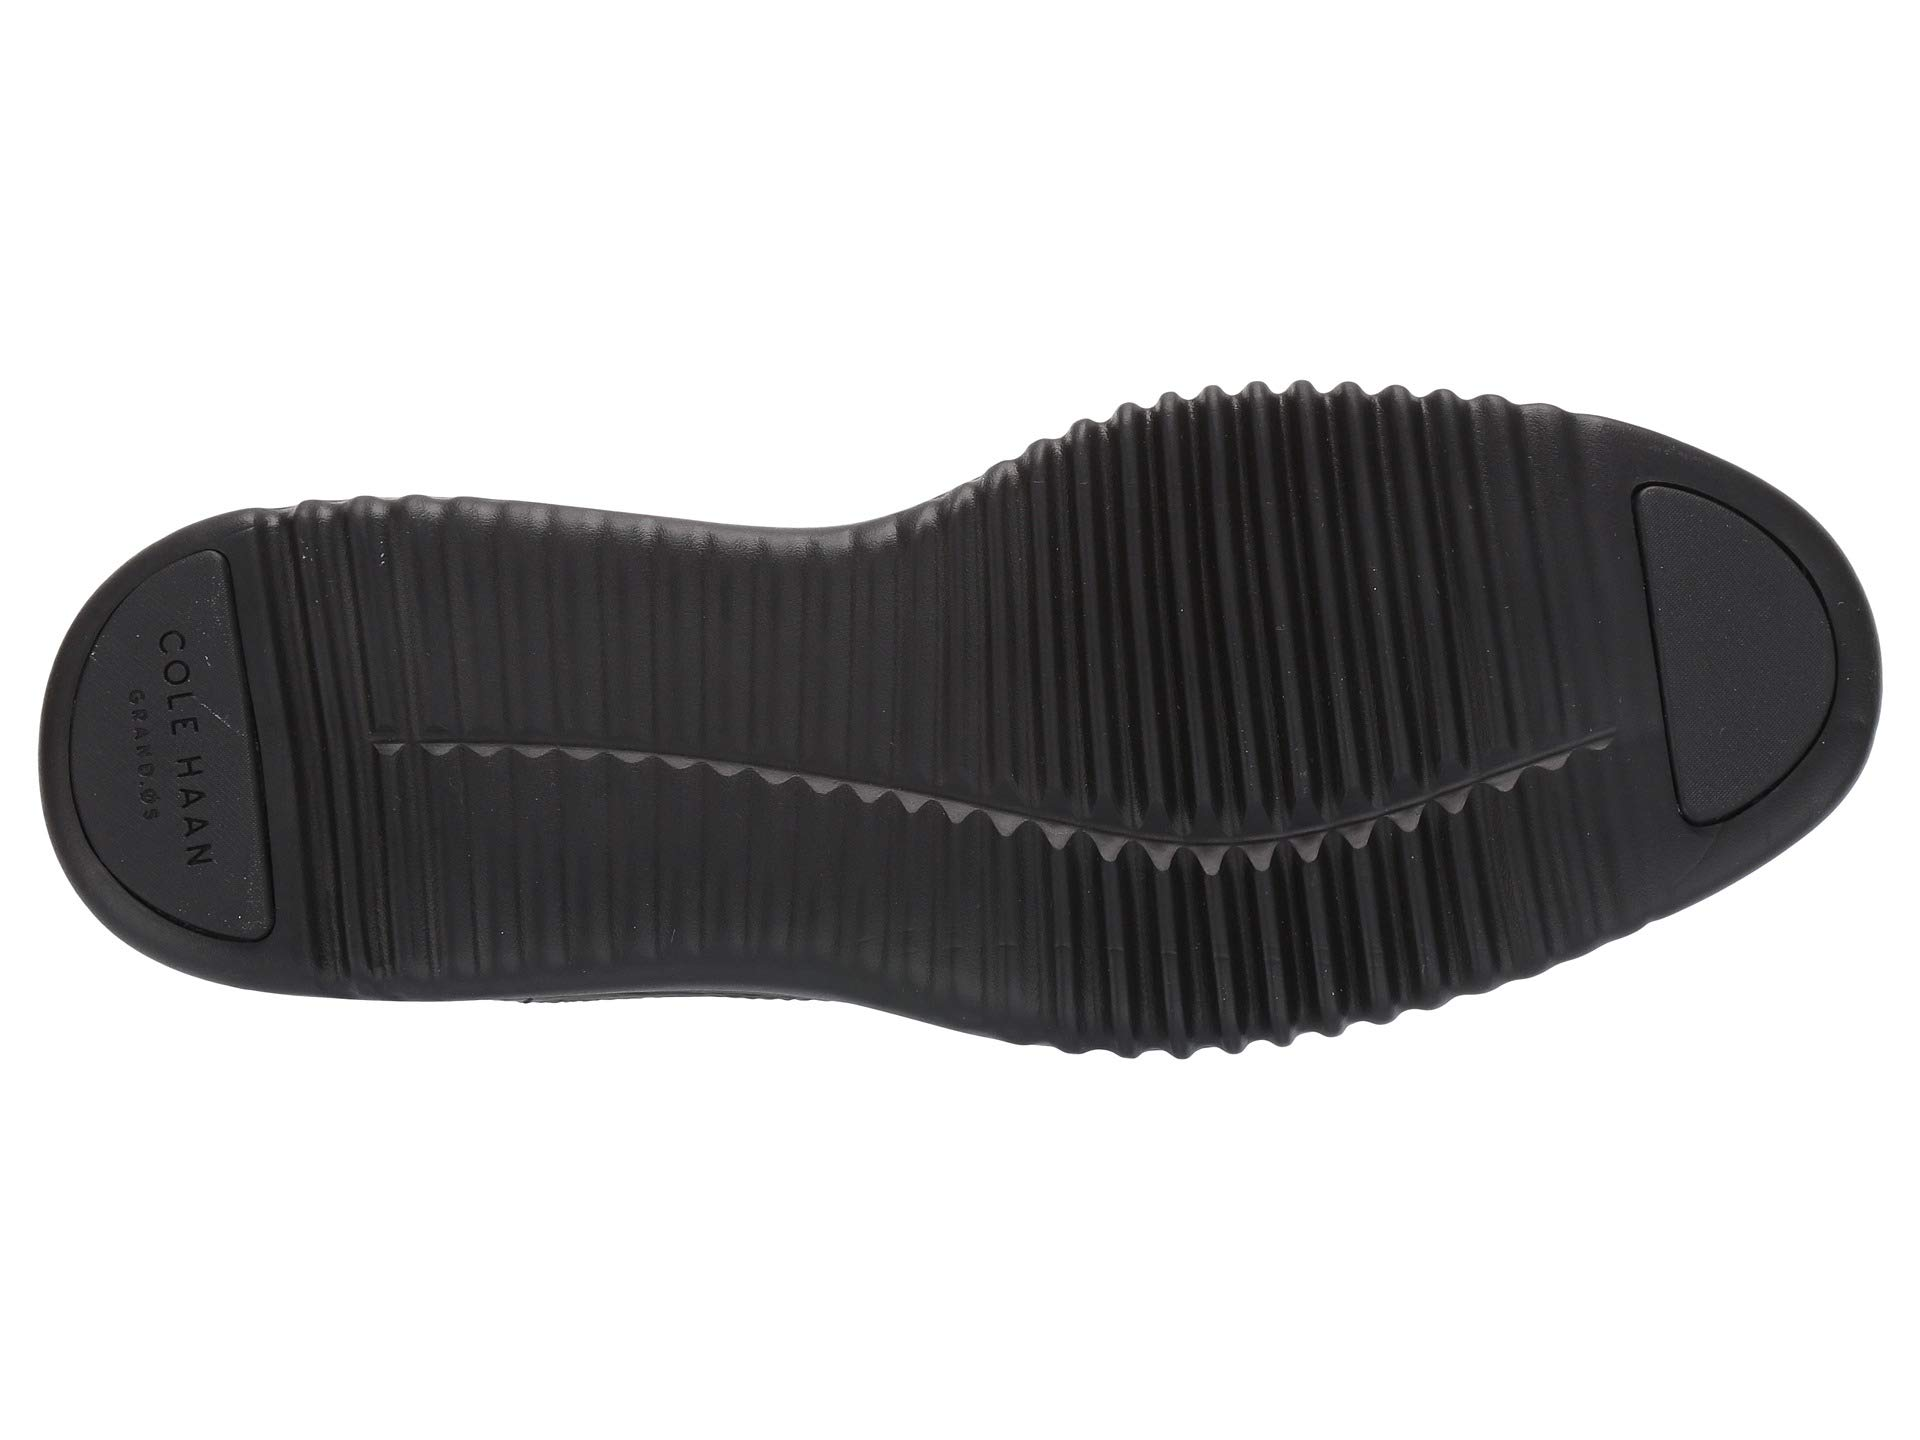circle: (91, 608, 423, 923)
line: (1098, 448, 1473, 830), (91, 608, 423, 923)
text: (91, 608, 423, 923)
